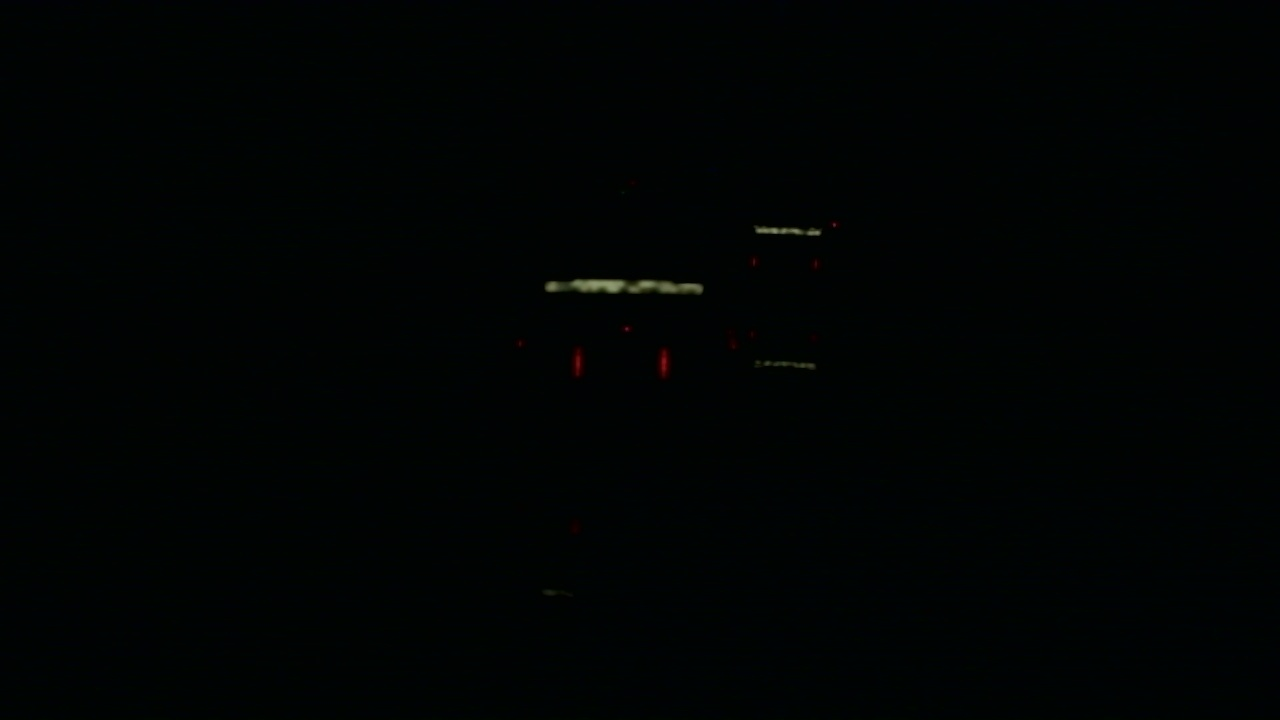lamp: (574, 346, 584, 374), (658, 347, 665, 376)
pair1: (574, 347, 668, 377)
